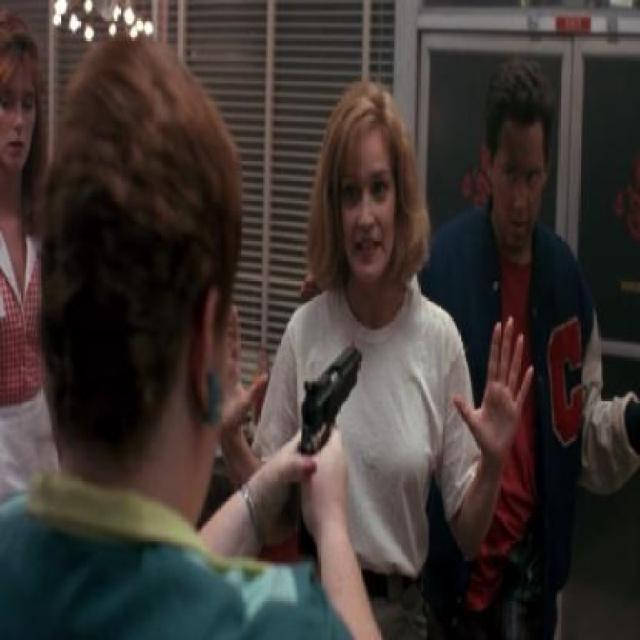gun: (292, 334, 368, 456)
